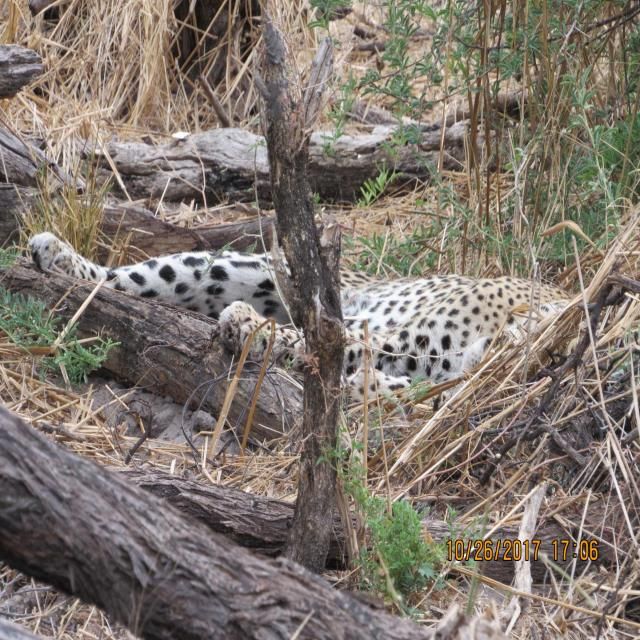Leopard: (20, 219, 591, 421)
